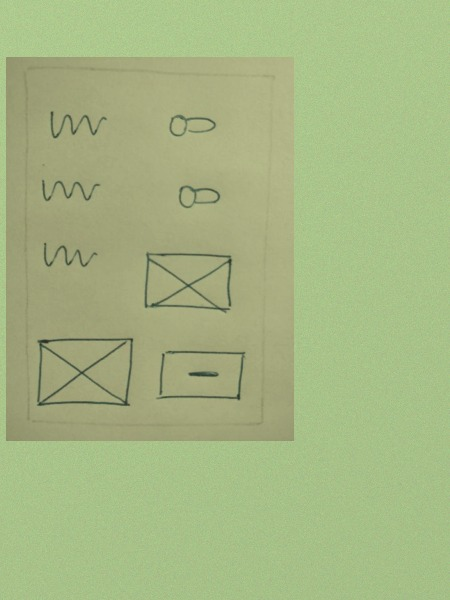button: (155, 346, 247, 406)
image: (34, 336, 135, 409), (141, 249, 234, 315)
switch: (164, 108, 222, 144), (172, 179, 223, 214)
text: (37, 238, 104, 280), (39, 173, 102, 208), (44, 107, 109, 140)
